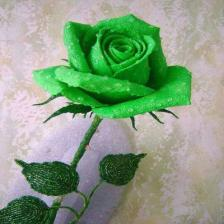green: (34, 15, 191, 147), (15, 160, 79, 196), (99, 153, 146, 186), (0, 197, 49, 224), (103, 35, 137, 63)
